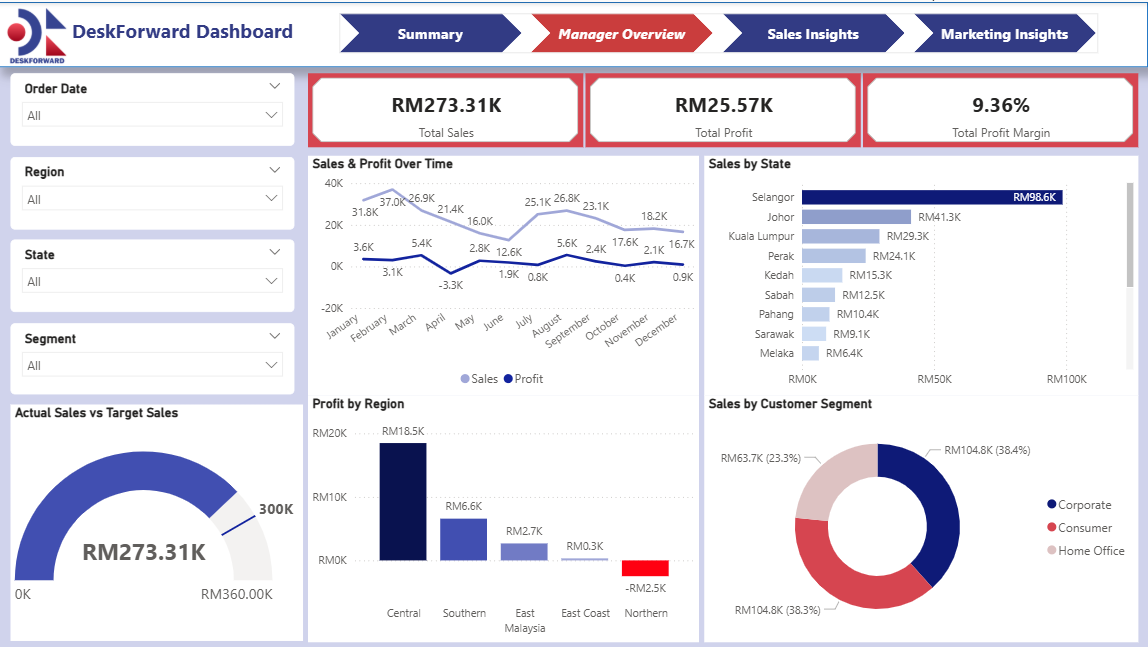

Layout of this report page (visuals, bound fields, positions):
{"tool":"powerbi","page":{"name":"Manager Overview","canvas":[1280,720],"ordinal":1},"visuals":[{"type":"shape","box":[0,0,1280,72.6],"z":0},{"type":"textbox","box":[68.9,12.3,272,49.2],"z":1000},{"type":"cardVisual","fields":{"Data":["Sum(Order Data.Sales)"]},"box":[345,79.1,306.1,82.1],"z":2000},{"type":"clusteredColumnChart","title":"Profit by Region","fields":{"Category":["Customer.Region"],"Y":["Sum(Order Data.Profit)"]},"box":[344.4,438.3,435.5,274.1],"z":3000},{"type":"donutChart","title":"Sales by Customer Segment","fields":{"Category":["Customer.Segment"],"Y":["Order.Total Sales"]},"box":[785.8,438.3,482.9,274.3],"z":4000},{"type":"image","box":[0,0,87.4,75.1],"z":5000},{"type":"slicer","fields":{"Values":["Customer Data.Region"]},"box":[13.9,172.5,315.8,80.7],"z":6000},{"type":"slicer","fields":{"Values":["Customer Data.State"]},"box":[13.9,264.3,315.8,80.7],"z":7000},{"type":"slicer","fields":{"Values":["Customer Data.Segment"]},"box":[13.9,357.6,315.8,79.3],"z":8000},{"type":"cardVisual","fields":{"Data":["Sum(Order Data.Profit)"]},"box":[653.9,79.1,306.1,82],"z":9000},{"type":"slicer","fields":{"Values":["Order Data.Order Date.Variation.Date Hierarchy.Month"]},"box":[13.9,79.3,315.8,80.7],"z":10000},{"type":"lineChart","title":"Sales & Profit Over Time","fields":{"Category":["Order Data.Order Date.Variation.Date Hierarchy.Month"],"Y":["Sum(Order Data.Sales)","Sum(Order Data.Profit)"]},"box":[344.5,171.1,435.5,267.1],"z":11000},{"type":"cardVisual","fields":{"Data":["Order Data.Total Profit Margin"]},"box":[962.8,79.1,306.1,82],"z":12000},{"type":"clusteredBarChart","title":"Sales by State","fields":{"Category":["Customer Data.State"],"Y":["Sum(Order Data.Sales)"]},"box":[785.8,171.1,482.9,267.1],"z":13000},{"type":"pageNavigator","box":[380.3,12.3,844.3,44.3],"z":14000},{"type":"gauge","title":"Actual Sales vs Target Sales","fields":{"Y":["Sum(Order Data.Sales)"],"TargetValue":["Order Data.Sales Target"],"MinValue":["Order Data.MinValue"],"MaxValue":["Order Data.Max Value"]},"box":[13.9,448,325.6,263],"z":15000}]}

Visuals, with their boxes in screenshot pixels (x1, y1, x2, y2), scaled from the page's 1280x720 canvas onto the 1148x647 screenshot:
shape: [0,0,1147,65]
textbox: [62,11,306,55]
cardVisual - Sum(Order Data.Sales): [309,71,584,145]
"Profit by Region" clusteredColumnChart: [309,394,699,640]
"Sales by Customer Segment" donutChart: [705,394,1138,640]
image: [0,0,78,67]
slicer - Customer Data.Region: [12,155,296,228]
slicer - Customer Data.State: [12,238,296,310]
slicer - Customer Data.Segment: [12,321,296,393]
cardVisual - Sum(Order Data.Profit): [586,71,861,145]
slicer - Order Data.Order Date.Variation.Date Hierarchy.Month: [12,71,296,144]
"Sales & Profit Over Time" lineChart: [309,154,700,394]
cardVisual - Order Data.Total Profit Margin: [864,71,1138,145]
"Sales by State" clusteredBarChart: [705,154,1138,394]
pageNavigator: [341,11,1098,51]
"Actual Sales vs Target Sales" gauge: [12,403,304,639]
